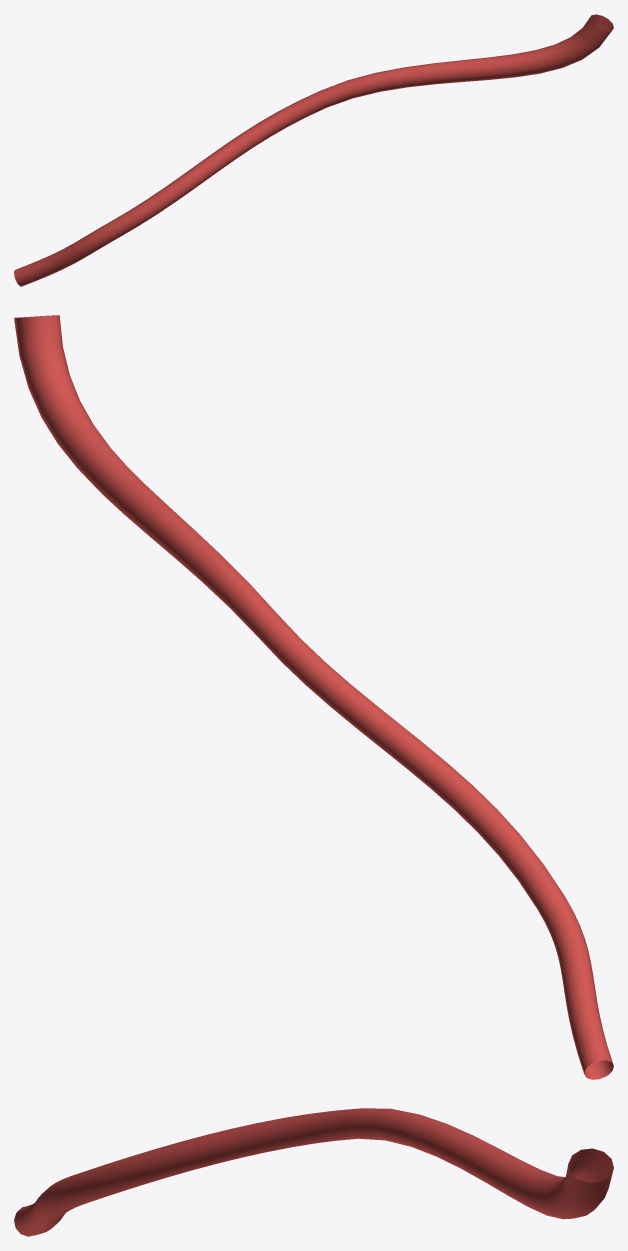
3 renders of one model, top to bottom at view 1: azimuth 30°, elevation 25°; view 2: azimuth 150°, elevation 25°; view 3: azimuth 330°, elevation 25°, orthographic. The views are drawn at different scales.
Visible parts, largest first — view 1: 右侧足底外侧动脉; view 2: 右侧足底外侧动脉; view 3: 右侧足底外侧动脉.
Boxes of the visible parts, x1,y1,x2,y2 form: 右侧足底外侧动脉: (14, 14, 613, 286); 右侧足底外侧动脉: (14, 315, 613, 1079); 右侧足底外侧动脉: (14, 1108, 613, 1236).
Size of the model in its own units: 0.06 by 0.0302 by 0.0301.
